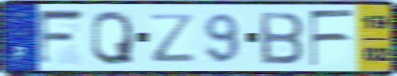9: (202, 11, 246, 65)
B: (257, 10, 307, 66)
F: (36, 7, 88, 68), (307, 8, 356, 68)
Q: (89, 8, 136, 67)
Z: (147, 12, 198, 64)
